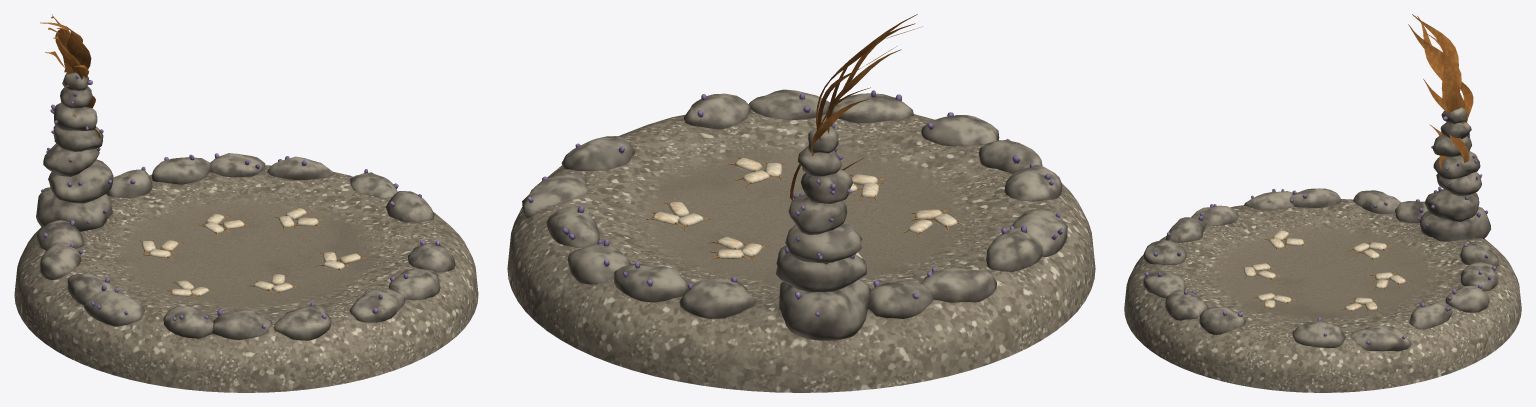
Rendered from aquatic_nest.glb.
The picture shows the model from 3 angles, left to right: view 1: azimuth 30°, elevation 25°; view 2: azimuth 150°, elevation 25°; view 3: azimuth 270°, elevation 25°; orthographic projection. The views are drawn at different scales.
Parts seen in each view (by area): view 1: NestMound, NestRim, Beacon, BeaconDetail, NestPolyps, Clutch_2, Clutch_1, Clutch_3, Clutch_6, Clutch_5, Clutch_4; view 2: NestMound, NestRim, Beacon, BeaconDetail, NestPolyps, Clutch_6, Clutch_1, Clutch_2, Clutch_4, Clutch_5; view 3: NestMound, NestRim, Beacon, BeaconDetail, NestPolyps, Clutch_3, Clutch_4, Clutch_5, Clutch_1, Clutch_6.
Part boxes in pixels (left/top/right/bottom): NestMound: left=14, top=165, right=478, bottom=392; NestRim: left=37, top=153, right=455, bottom=340; Beacon: left=36, top=72, right=113, bottom=231; BeaconDetail: left=40, top=14, right=113, bottom=224; NestPolyps: left=43, top=153, right=439, bottom=328; Clutch_2: left=274, top=207, right=323, bottom=230; Clutch_1: left=197, top=213, right=249, bottom=237; Clutch_3: left=139, top=240, right=183, bottom=260; Clutch_6: left=315, top=252, right=367, bottom=271; Clutch_5: left=248, top=274, right=299, bottom=294; Clutch_4: left=166, top=280, right=212, bottom=299; NestMound: left=507, top=109, right=1095, bottom=392; NestRim: left=522, top=89, right=1067, bottom=318; Beacon: left=776, top=126, right=870, bottom=340; BeaconDetail: left=784, top=14, right=922, bottom=317; NestPolyps: left=527, top=90, right=1063, bottom=298; Clutch_6: left=727, top=157, right=784, bottom=188; Clutch_1: left=709, top=237, right=770, bottom=261; Clutch_2: left=646, top=201, right=710, bottom=230; Clutch_4: left=901, top=209, right=962, bottom=236; Clutch_5: left=850, top=174, right=885, bottom=200; NestMound: left=1124, top=199, right=1521, bottom=392; NestRim: left=1143, top=188, right=1498, bottom=351; Beacon: left=1419, top=107, right=1490, bottom=241; BeaconDetail: left=1408, top=14, right=1487, bottom=242; NestPolyps: left=1144, top=189, right=1496, bottom=345; Clutch_3: left=1347, top=242, right=1392, bottom=261; Clutch_4: left=1264, top=229, right=1307, bottom=250; Clutch_5: left=1241, top=263, right=1280, bottom=281; Clutch_1: left=1369, top=272, right=1409, bottom=290; Clutch_6: left=1253, top=293, right=1297, bottom=310.
Size of the model in its own units: 9.2 by 6 by 9.2.
Materials: 1 (1 with a texture image).
